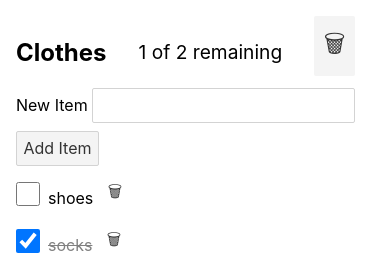
Test: Category › should delete an item
Click the button with test id "delete" next to "shoes". click: (115, 194)
box: [101, 174, 128, 214]
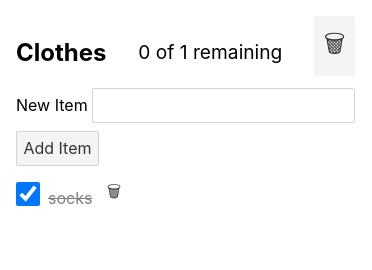
Expected: the number of list items is 1, [16, 174, 128, 214]
